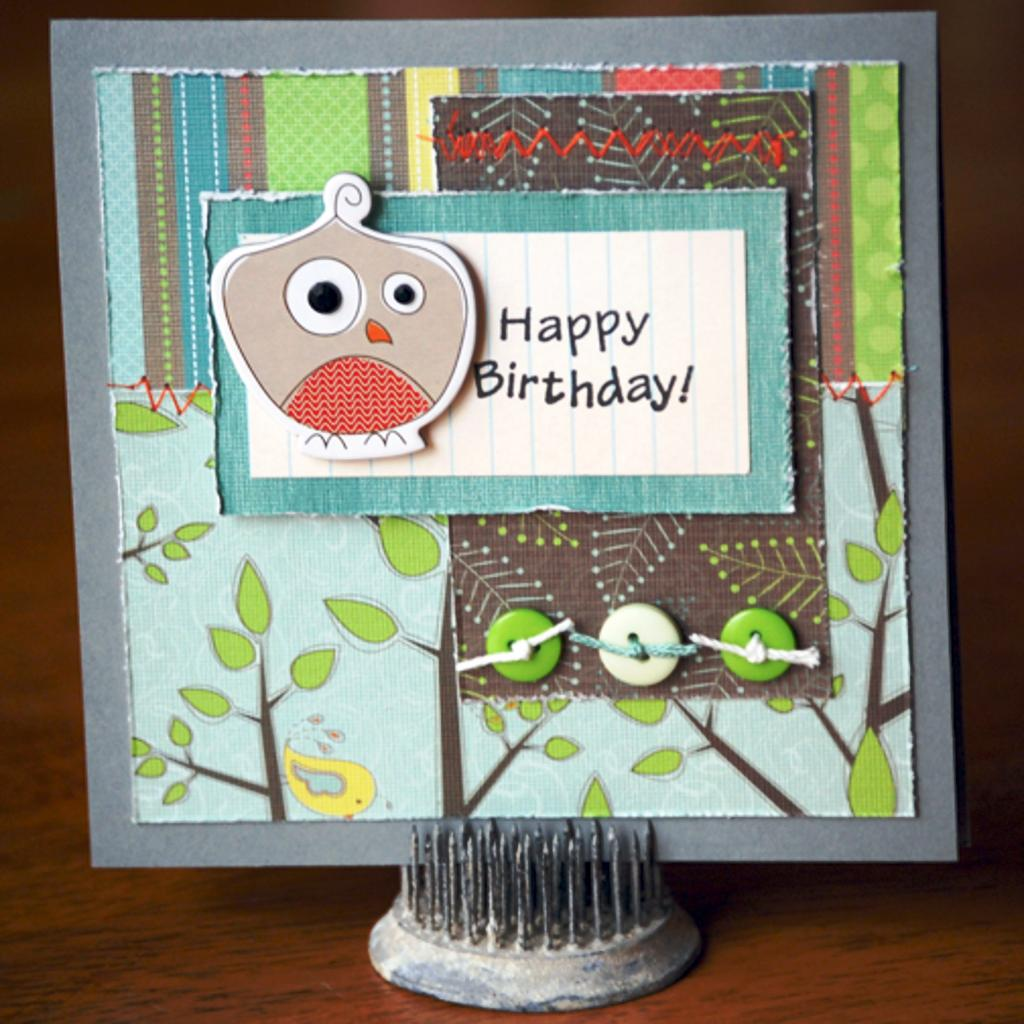Owl: (220, 185, 470, 449)
